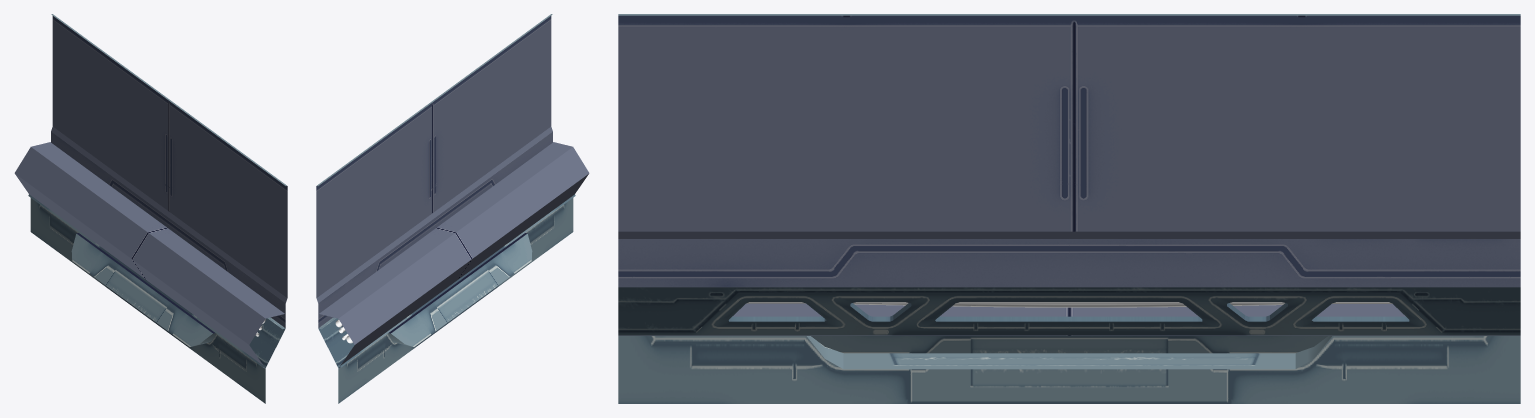
File: TopCables_Straight.gltf
The picture shows the model from 3 angles, left to right: view 1: azimuth 30°, elevation 25°; view 2: azimuth 150°, elevation 25°; view 3: azimuth 270°, elevation 25°; orthographic projection. The views are drawn at different scales.
Visible parts, largest first — view 1: TopCables_Straight; view 2: TopCables_Straight; view 3: TopCables_Straight.
Part boxes in pixels (bbox=[...]): TopCables_Straight: bbox=[14, 14, 287, 403]; TopCables_Straight: bbox=[316, 14, 589, 403]; TopCables_Straight: bbox=[618, 14, 1520, 403].
Size of the model in its own units: 0.3839 by 2 by 4.
Materials: 4 (3 with a texture image).
